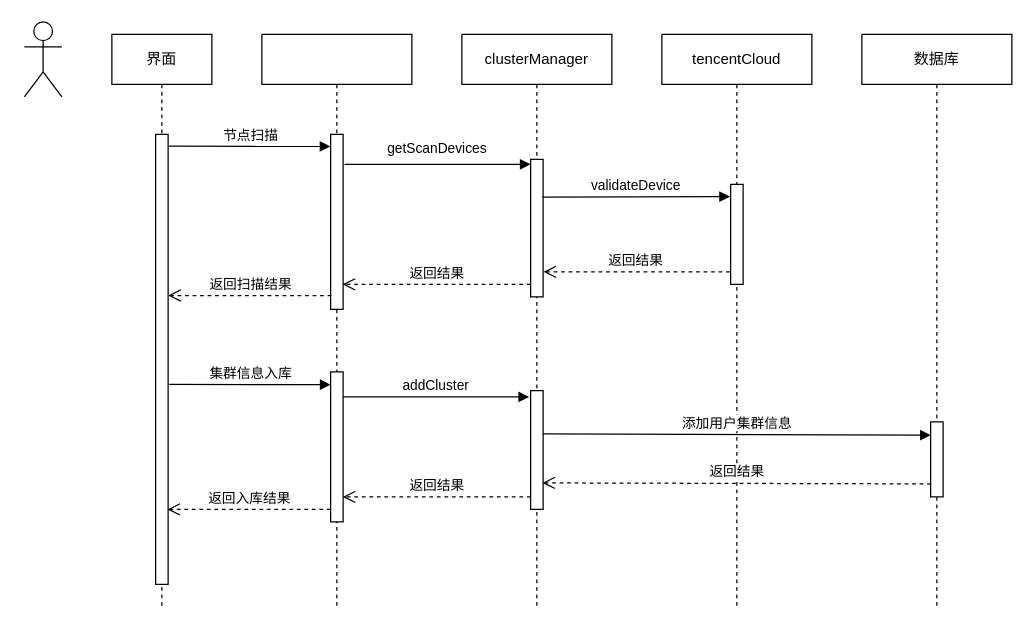
Image size: 1034x631. Some labels were removed from this diagram. Each missing label, with the box of its shape:
cluster.js: (261, 33, 412, 609)
Owner: (23, 21, 62, 97)
